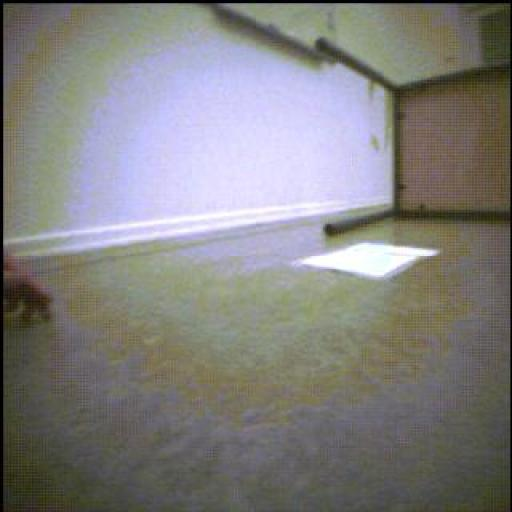Pad: (297, 245, 439, 280)
